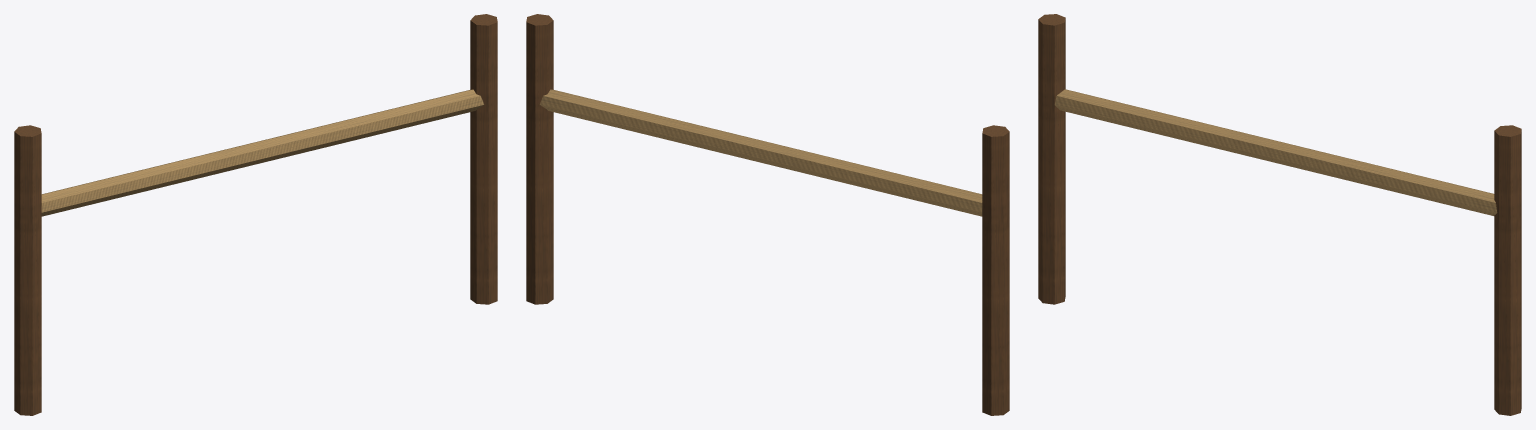
File: en-024_camp_boundary_rope_set__slack.obj
3 renders of one model, left to right at view 1: azimuth 30°, elevation 25°; view 2: azimuth 150°, elevation 25°; view 3: azimuth 330°, elevation 25°, orthographic.
Parts seen in each view (by area): view 1: en-024_camp_boundary_rope_set__slack; view 2: en-024_camp_boundary_rope_set__slack; view 3: en-024_camp_boundary_rope_set__slack.
Part boxes in pixels (x1,y1,x2,y2): en-024_camp_boundary_rope_set__slack: (14,14,497,415); en-024_camp_boundary_rope_set__slack: (526,14,1009,415); en-024_camp_boundary_rope_set__slack: (1038,14,1521,415).
Size of the model in its own units: 1.37 by 0.76 by 0.0682.
Materials: 2 (2 with a texture image).
